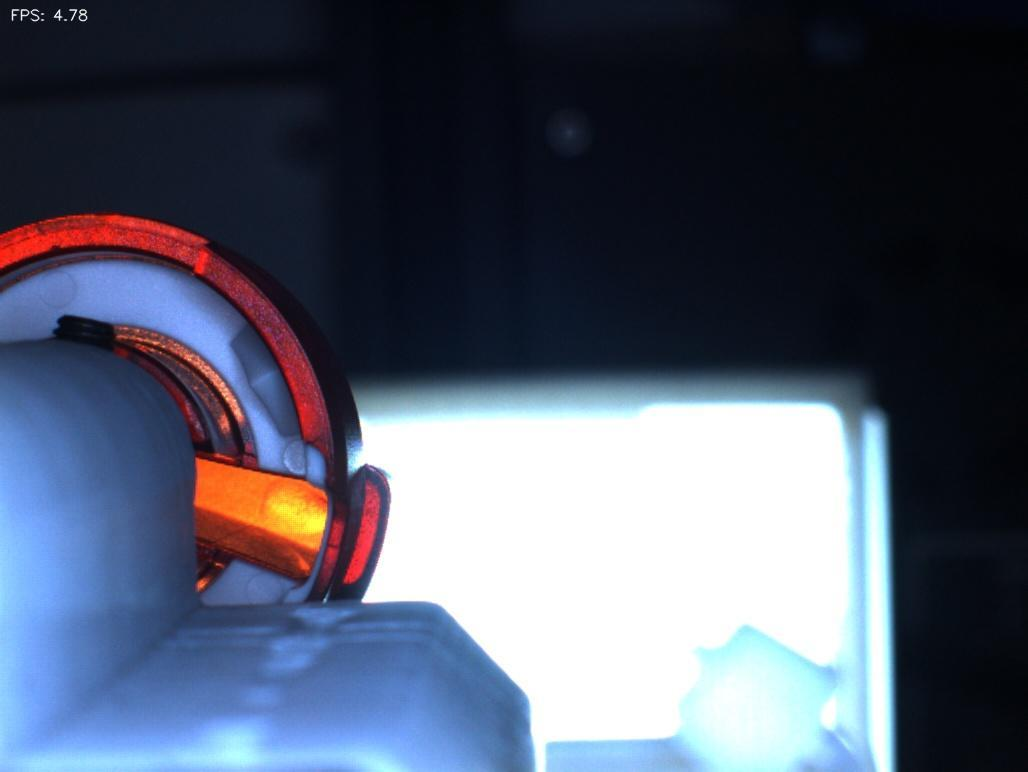Retassure: (249, 472, 338, 546)
